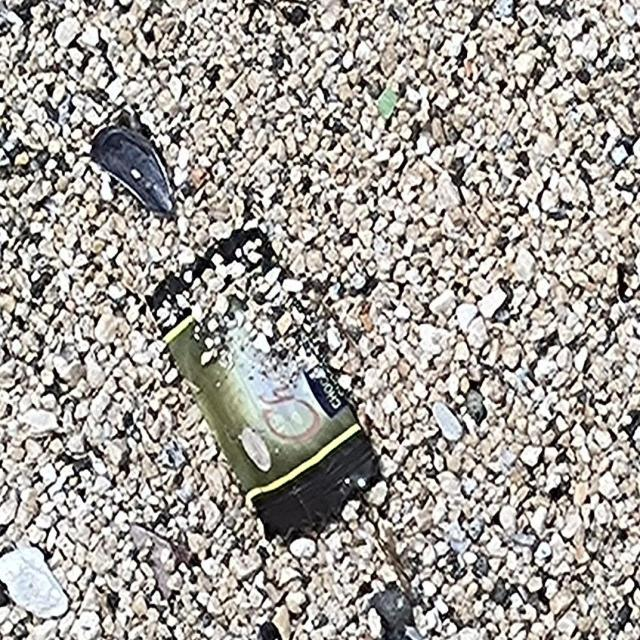plastic_waste: (143, 226, 385, 548)
